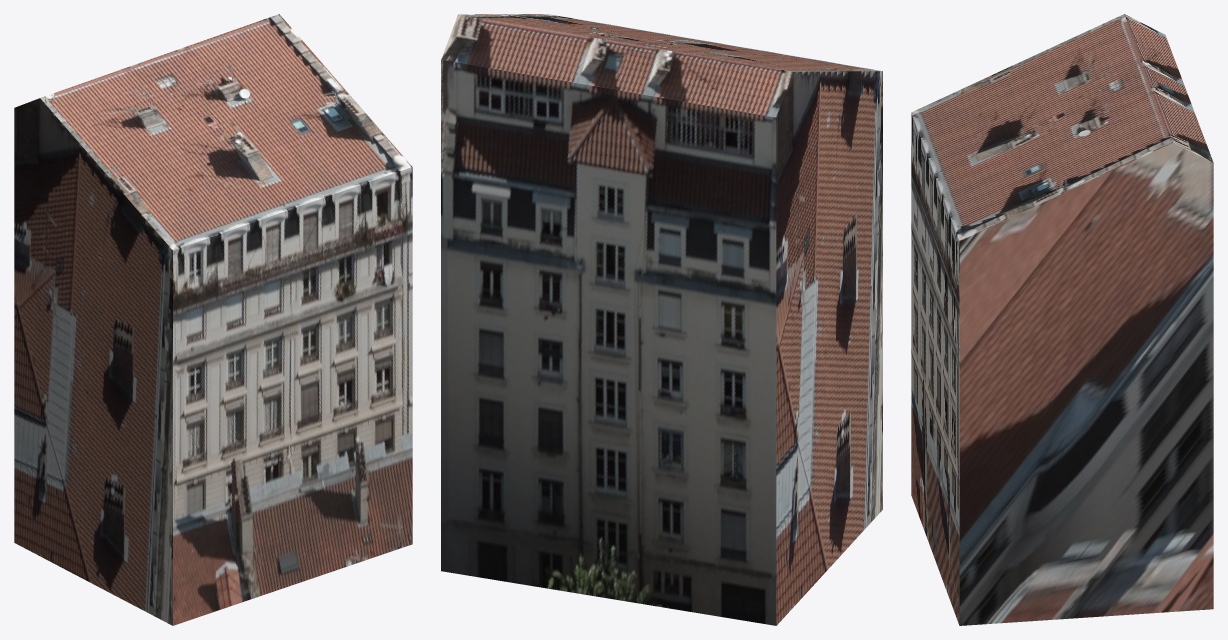
The picture shows the model from 3 angles, left to right: view 1: azimuth 30°, elevation 25°; view 2: azimuth 150°, elevation 25°; view 3: azimuth 270°, elevation 25°; orthographic projection. The views are drawn at different scales.
Visible parts, largest first — view 1: Z_UP; view 2: Z_UP; view 3: Z_UP.
Boxes of the visible parts, bbox=[...] form: Z_UP: bbox=[14, 14, 412, 625]; Z_UP: bbox=[441, 14, 882, 625]; Z_UP: bbox=[911, 14, 1213, 625].
Bounding box in the file's own units: 19.47 × 28.83 × 16.85.
Materials: 2 (1 with a texture image).
